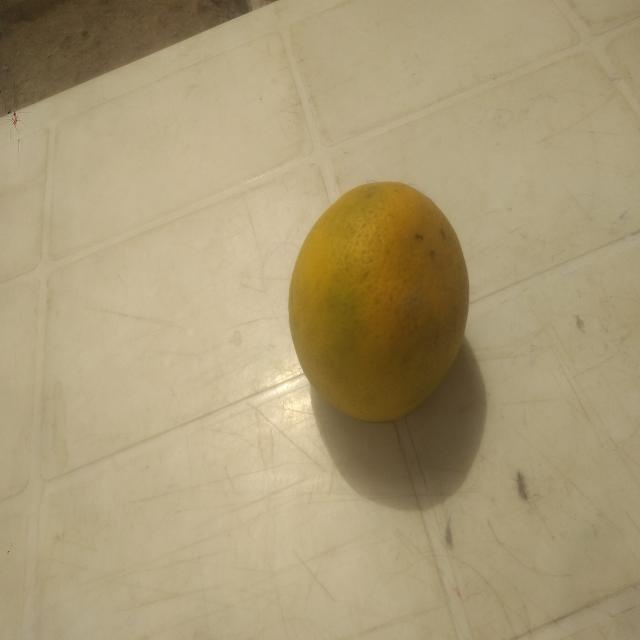agrume: (277, 166, 485, 464)
